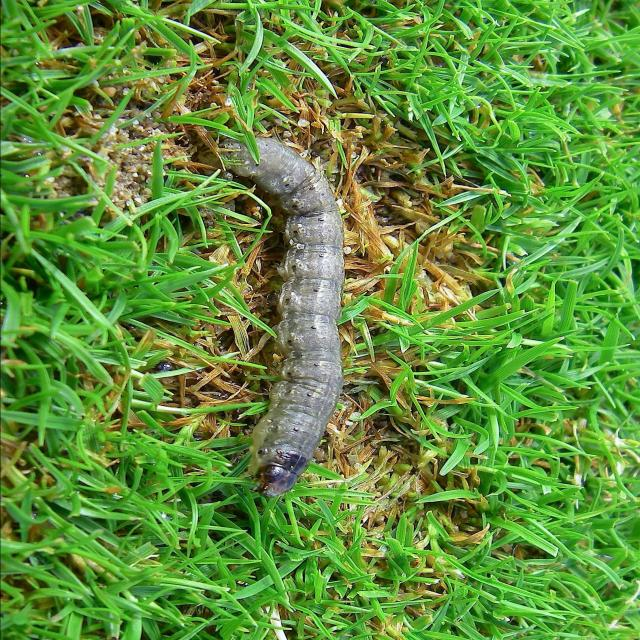black cutworm: (207, 135, 345, 498)
